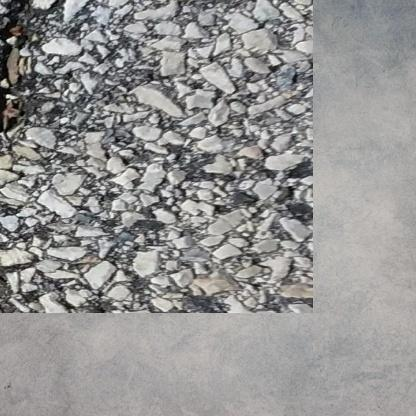Cracks: (0, 0, 46, 138), (0, 227, 13, 289)
